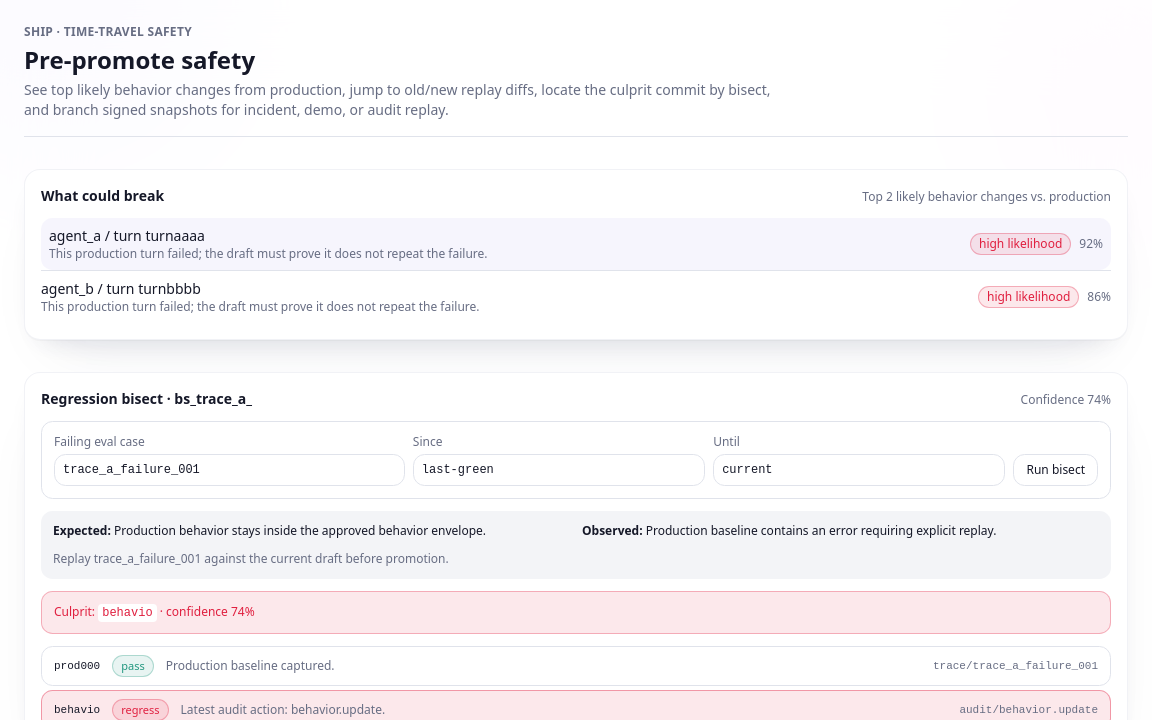
Test case: DeploySafetyPage › uses the selected what-could-break row as the live bisect target
This screenshot has width=1152, height=720.
Click the button that starts with "agent_b / turn turnbbbb".
click(121, 288)  # box [41, 279, 1111, 315]
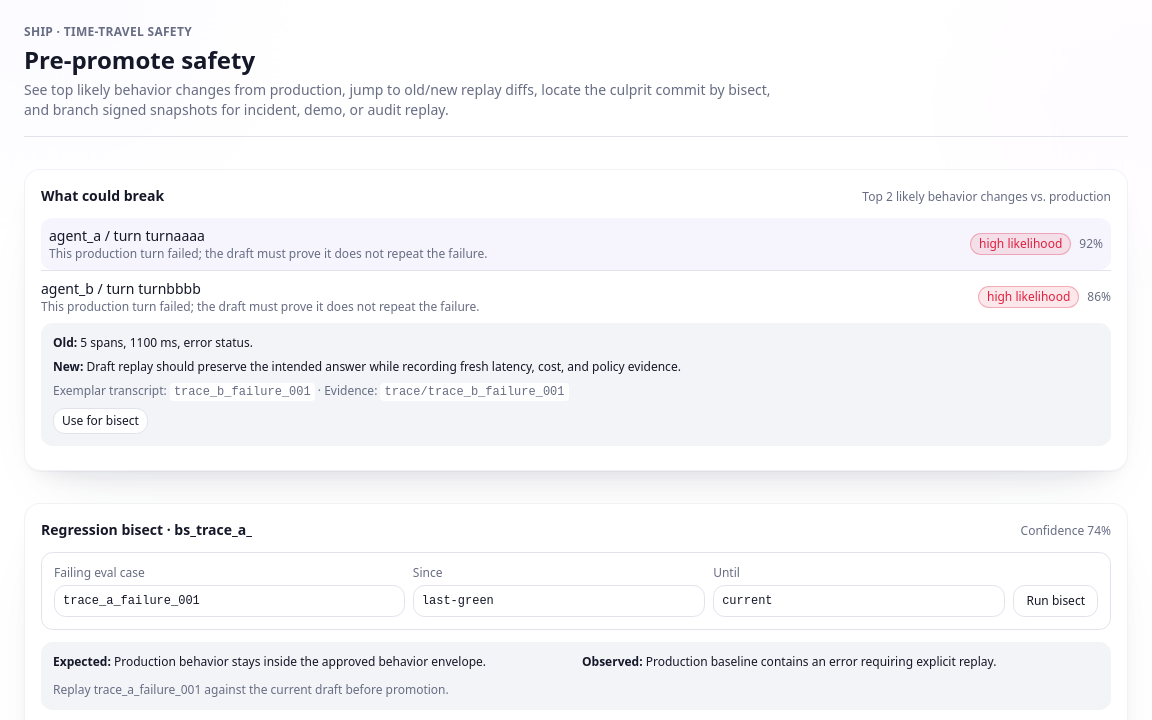
Click the button with test id "wcb-inspect-live_bc_trace_b_fail".
click(100, 421)  # box [53, 408, 148, 434]
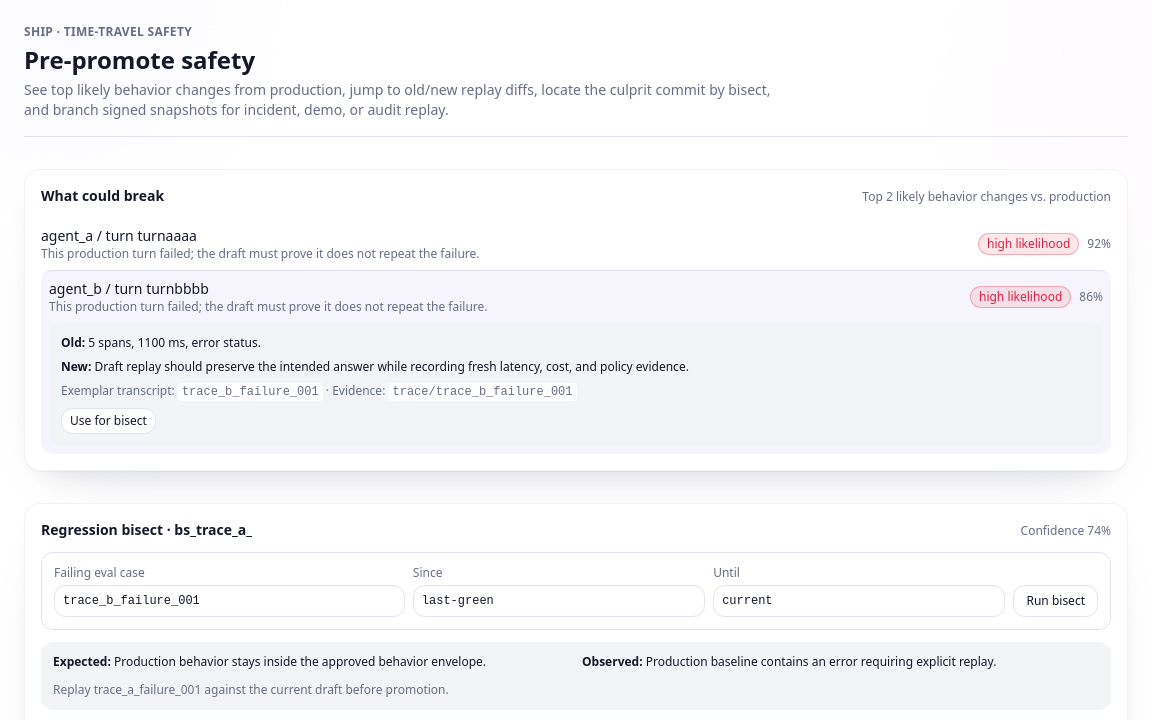
expect the field with test id "bisect-case" holds "trace_b_failure_001": met, box [54, 585, 405, 617]
Click the button with test id "bisect-run".
click(1056, 601)  # box [1014, 585, 1098, 617]
(page scrolled)
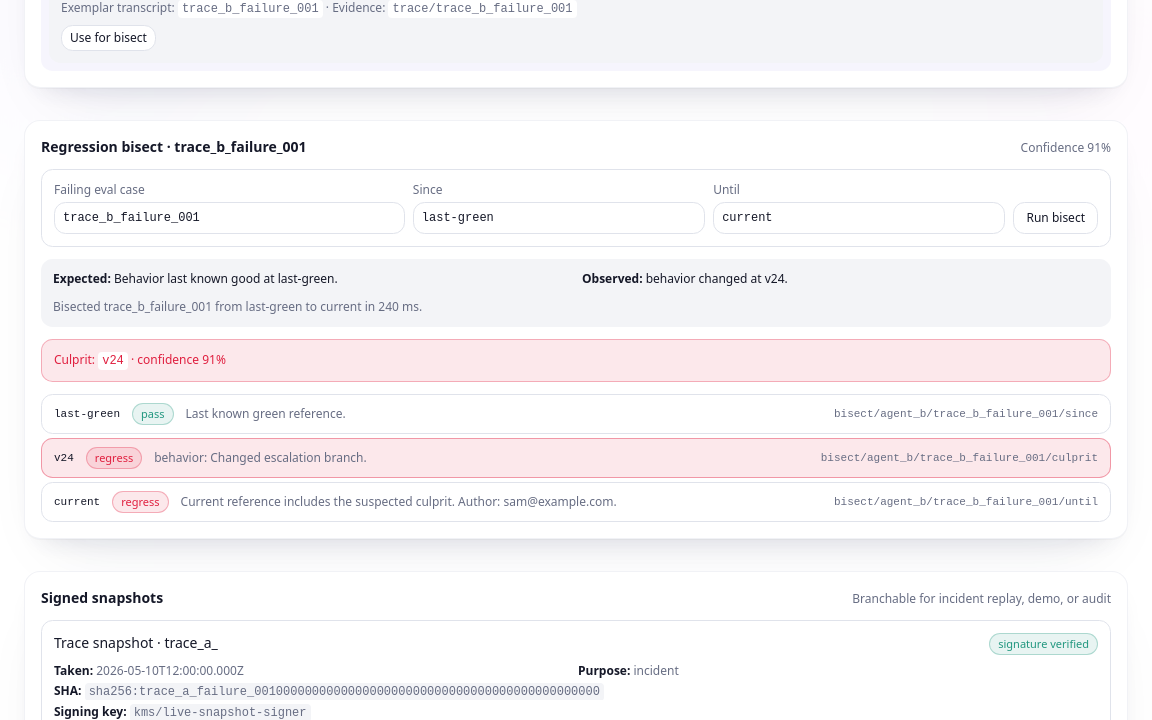
expect the heading "Regression bisect · trace_b_failure_001" is shown: met, box [41, 137, 306, 157]
expect the element with test id "bisect-culprit" shows "v24": met, box [102, 354, 124, 368]
